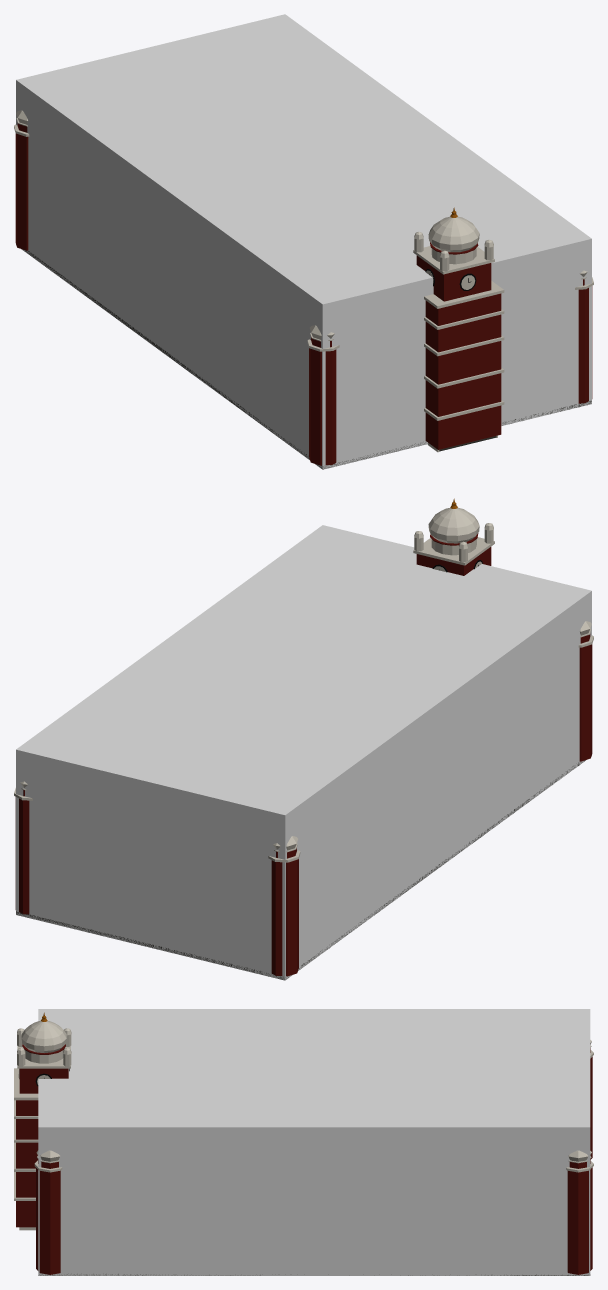
Rendered from B34_colonial_heritage.glb.
3 views of the same model, one above another, from view 1: azimuth 30°, elevation 25°; view 2: azimuth 150°, elevation 25°; view 3: azimuth 270°, elevation 25° (orthographic). The views are drawn at different scales.
Visible parts, largest first — view 1: COL_Main, LOD0; view 2: COL_Main, LOD0; view 3: COL_Main, LOD0.
Boxes of the visible parts, x1,y1,x2,y2 form: COL_Main: (16, 14, 591, 469); LOD0: (14, 110, 593, 469); COL_Main: (16, 525, 591, 980); LOD0: (14, 498, 593, 979); COL_Main: (38, 1009, 590, 1275); LOD0: (14, 1012, 593, 1275).
Size of what is drawn, in the model's own units: 39.4 by 30.29 by 77.75.
